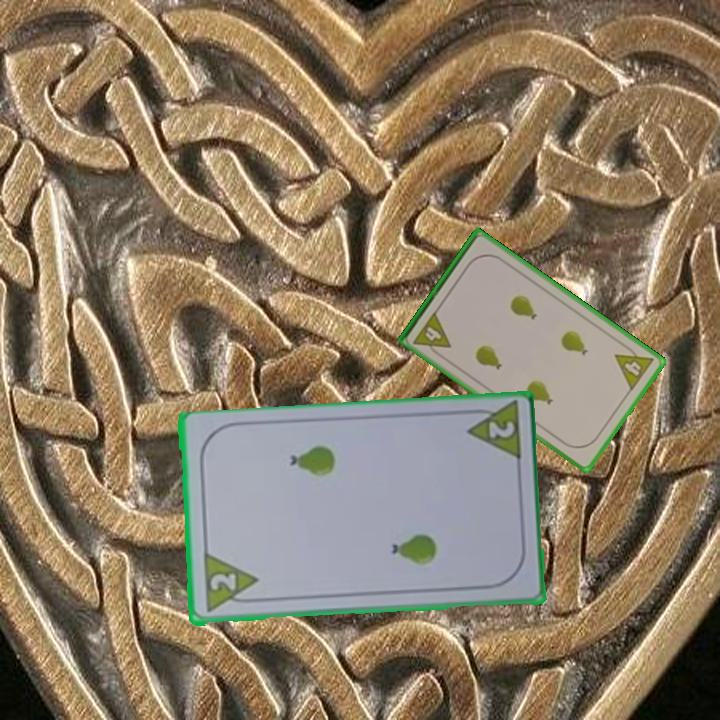2p: (460, 400, 524, 465), (206, 570, 239, 595)
4p: (611, 340, 657, 394), (410, 308, 454, 360)
